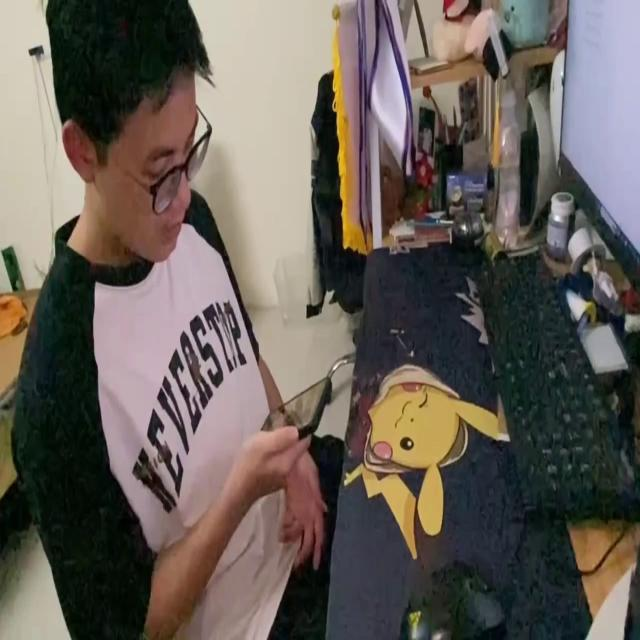laptop: (560, 0, 640, 296)
phone: (257, 376, 333, 436)
student: (12, 0, 338, 640)
